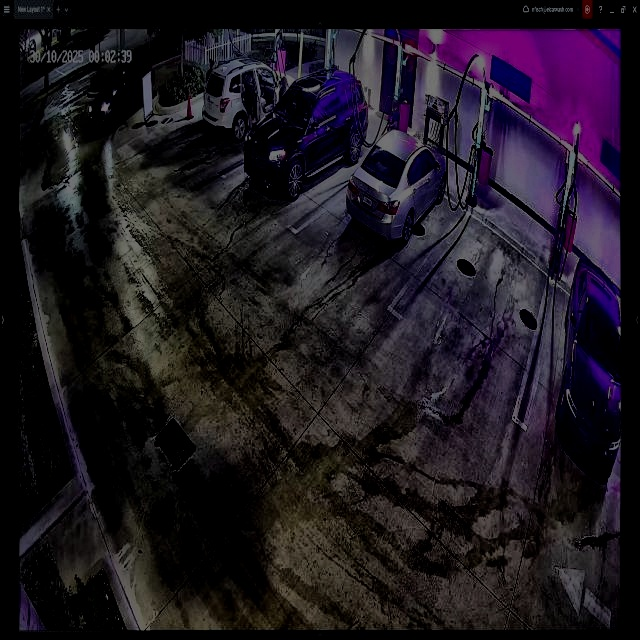Car: (243, 72, 368, 200), (345, 131, 448, 243)
